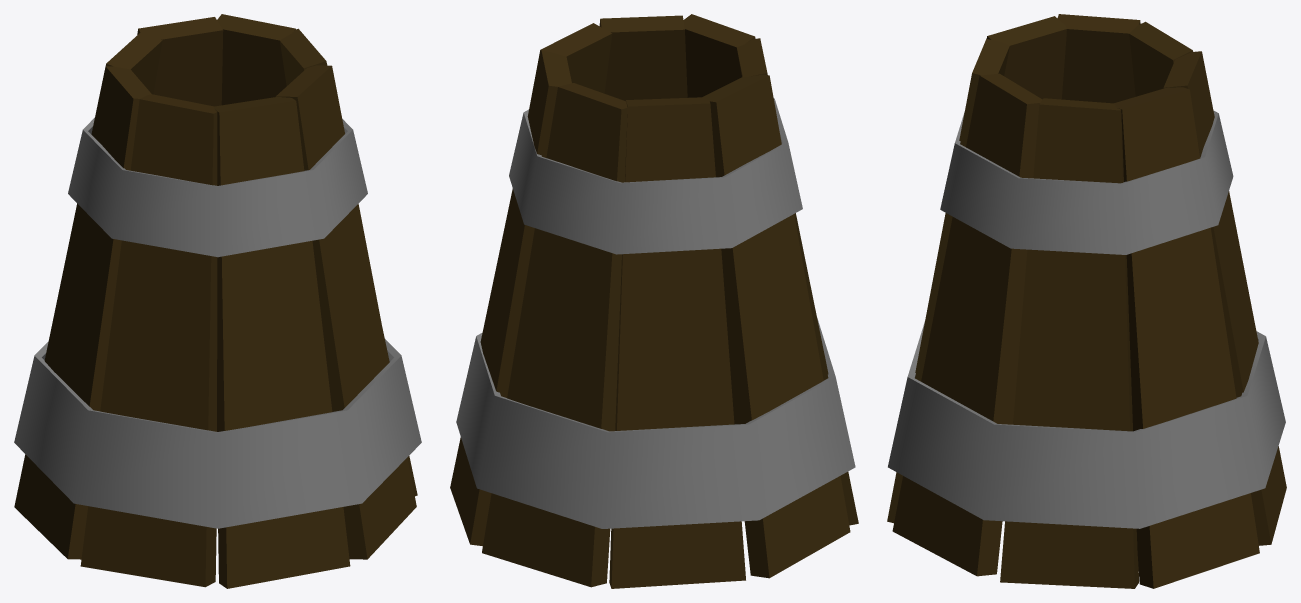
The model's file is bure  manje siljo.FBX.
The picture shows the model from 3 angles, left to right: view 1: azimuth 30°, elevation 25°; view 2: azimuth 150°, elevation 25°; view 3: azimuth 270°, elevation 25°; orthographic projection.
Parts seen in each view (by area): view 1: oko bure005, Box1446, Box1445, oko bure006, Box1444, Box1447, Box1449, Box1451, Box1448, Box1450; view 2: oko bure005, Box1448, Box1449, Box1447, oko bure006, Box1451, Box1444, Box1445, Box1450, Box1446; view 3: oko bure005, Box1450, Box1451, Box1444, oko bure006, Box1449, Box1447, Box1446, Box1445, Box1448.
Part boxes in pixels (<box>): oko bure005: <box>14,338,421,528</box>; Box1446: <box>80,94,217,587</box>; Box1445: <box>214,97,350,588</box>; oko bure006: <box>68,117,367,257</box>; Box1444: <box>275,65,416,559</box>; Box1447: <box>14,66,151,559</box>; Box1449: <box>137,17,223,106</box>; Box1451: <box>217,14,295,105</box>; Box1448: <box>105,32,162,94</box>; Box1450: <box>279,28,417,496</box>; oko bure005: <box>456,317,855,528</box>; Box1448: <box>609,97,745,588</box>; Box1449: <box>482,83,627,587</box>; Box1447: <box>702,74,850,578</box>; oko bure006: <box>509,98,802,254</box>; Box1451: <box>450,51,571,546</box>; Box1444: <box>599,15,687,100</box>; Box1445: <box>683,14,755,97</box>; Box1450: <box>528,23,612,111</box>; Box1446: <box>737,38,858,525</box>; oko bure005: <box>888,321,1285,528</box>; Box1450: <box>1000,98,1138,588</box>; Box1451: <box>1114,87,1259,588</box>; Box1444: <box>892,73,1042,576</box>; oko bure006: <box>940,110,1233,254</box>; Box1449: <box>1163,51,1286,545</box>; Box1447: <box>1057,14,1140,103</box>; Box1446: <box>986,16,1066,422</box>; Box1445: <box>887,38,1009,523</box>; Box1448: <box>1129,21,1193,96</box>.
Size of the model in its own units: 38.23 by 47.21 by 38.32.
